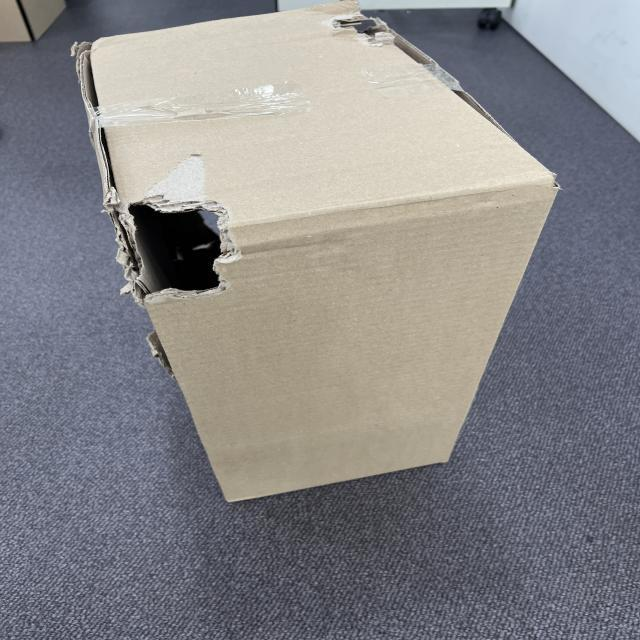hole: (117, 203, 234, 297), (323, 9, 411, 56)
